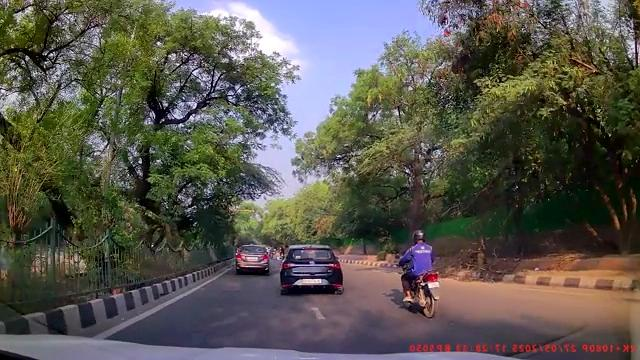motorcycle_with_helmet: (398, 228, 442, 319)
